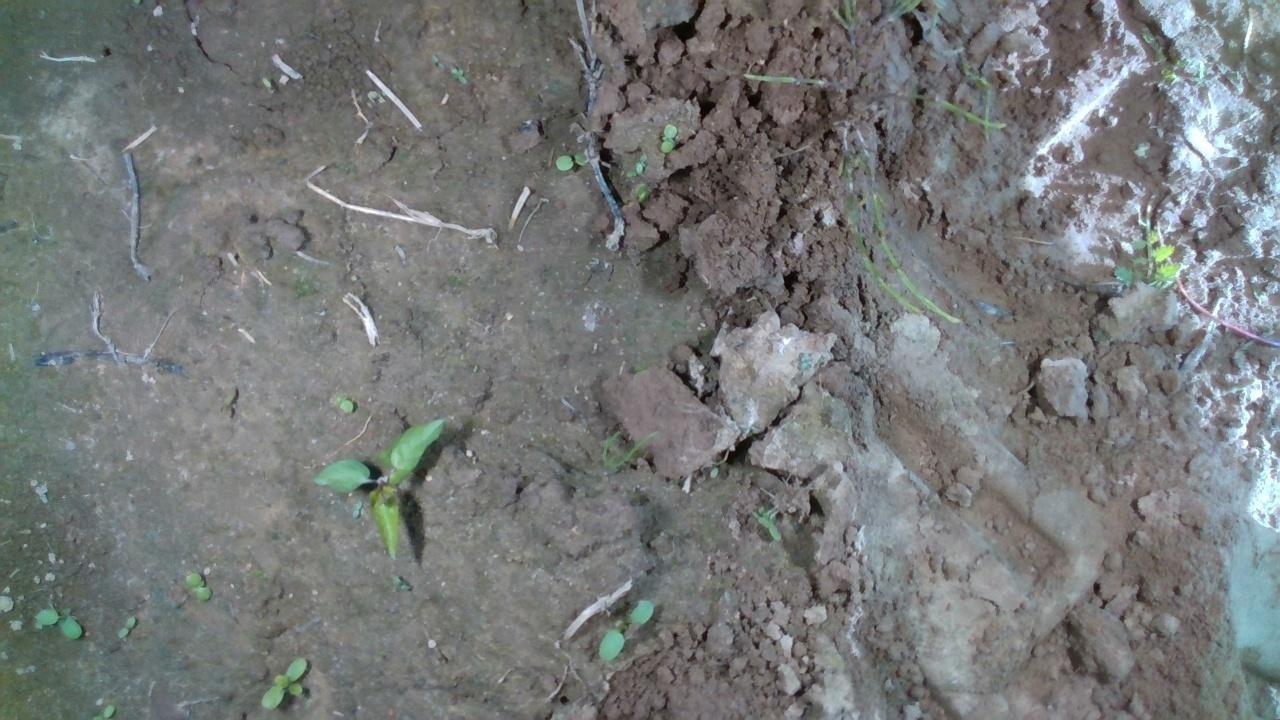weed: (306, 412, 447, 565), (596, 595, 654, 663), (259, 655, 307, 710), (32, 607, 83, 639), (183, 570, 212, 602), (552, 148, 585, 171), (113, 613, 138, 639), (658, 121, 678, 153), (328, 390, 353, 412)
